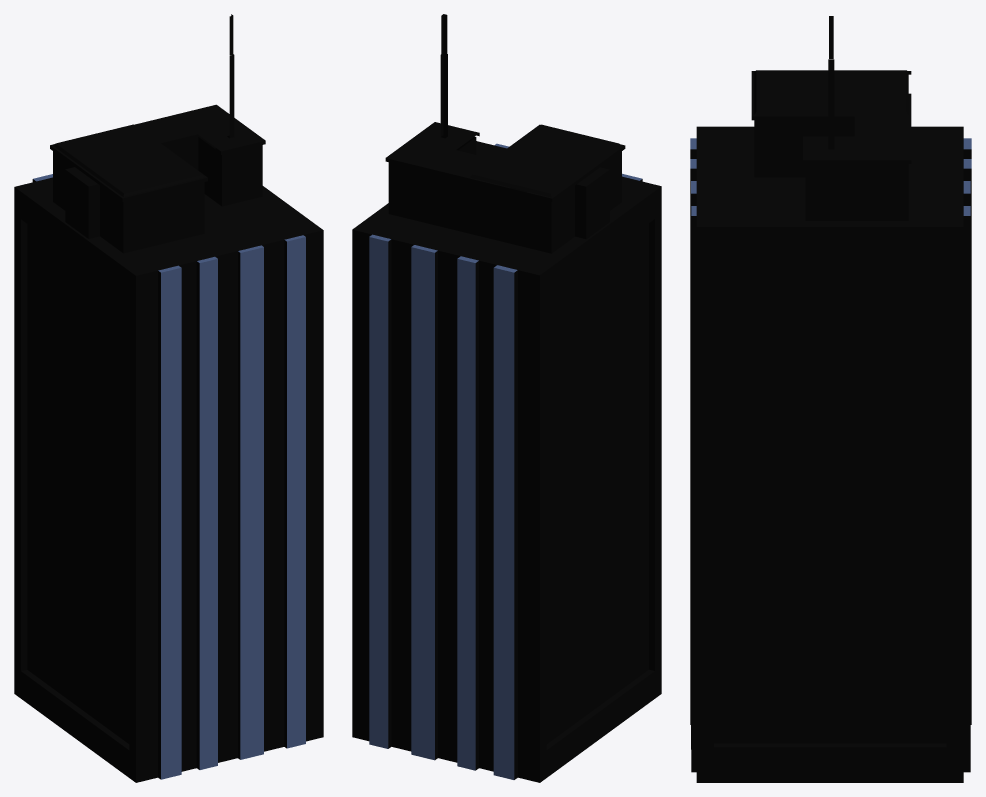
3 renders of one model, left to right at view 1: azimuth 30°, elevation 25°; view 2: azimuth 150°, elevation 25°; view 3: azimuth 270°, elevation 25°, orthographic. The views are drawn at different scales.
Visible parts, largest first — view 1: Cube.008; view 2: Cube.008; view 3: Cube.008.
Boxes of the visible parts, left/top/right/bottom form: Cube.008: left=14, top=14, right=323, bottom=782; Cube.008: left=352, top=14, right=661, bottom=782; Cube.008: left=690, top=16, right=971, bottom=782.
Bounding box in the file's own units: 531 × 1852 × 629.
